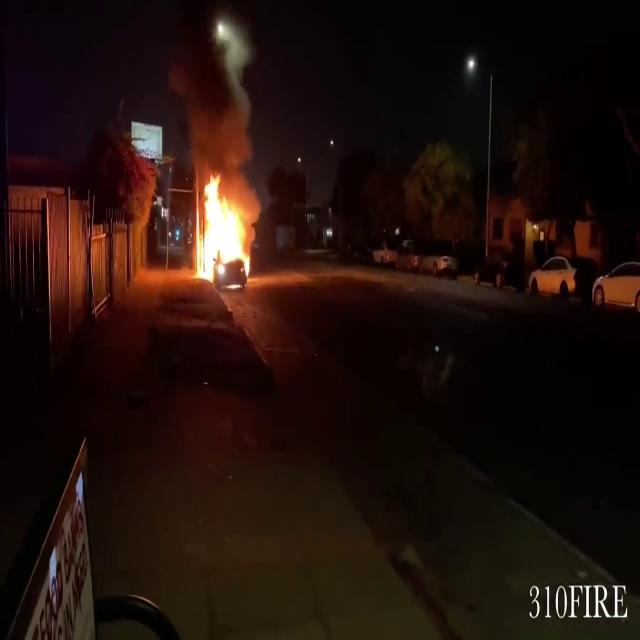Fire: (192, 172, 258, 283)
Smoke: (169, 33, 260, 175)
